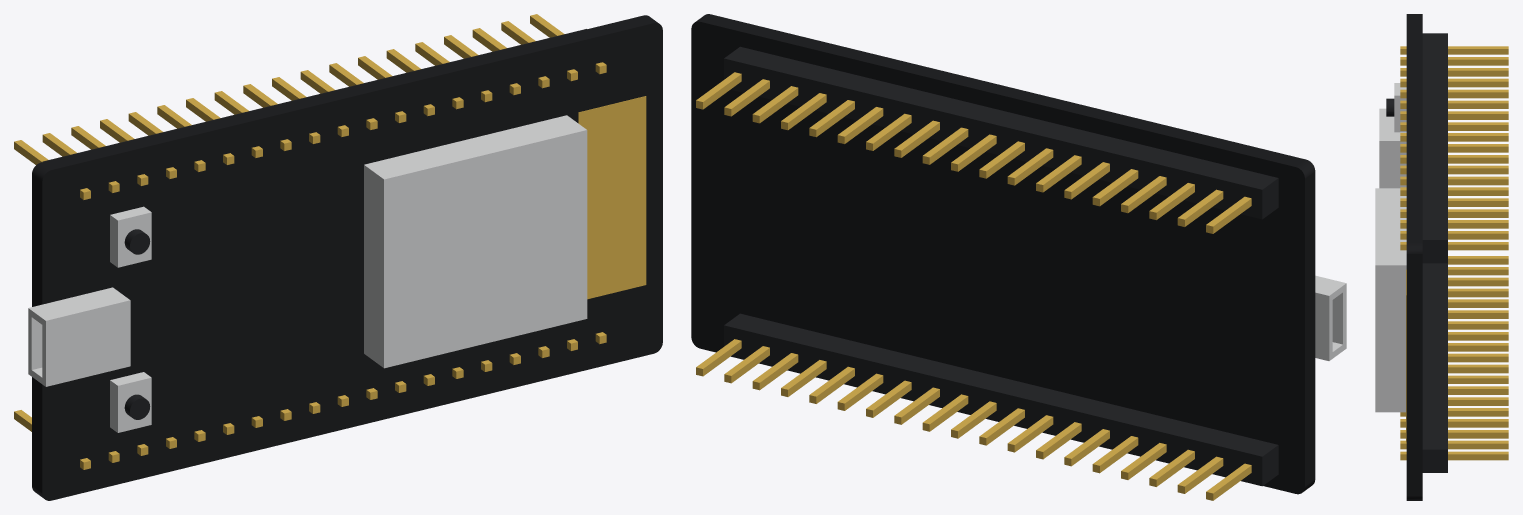
File: esp32-devkit.glb
The picture shows the model from 3 angles, left to right: view 1: azimuth 30°, elevation 25°; view 2: azimuth 150°, elevation 25°; view 3: azimuth 270°, elevation 25°; orthographic projection. The views are drawn at different scales.
Parts seen in each view (by area): view 1: board, esp32_module, antenna_trace_2, header_4_pins, usb, header_3_pins, button_7, button_6; view 2: board, header_4, header_3, header_3_pins, header_4_pins, usb; view 3: header_4_pins, header_3_pins, board, esp32_module, header_4, header_3, usb, button_7, antenna_trace_2, button_7_cap.
Part boxes in pixels (<box>): board: <box>32,15,662,500</box>; esp32_module: <box>364,115,587,368</box>; antenna_trace_2: <box>578,96,646,299</box>; header_4_pins: <box>14,14,606,199</box>; usb: <box>28,287,130,386</box>; header_3_pins: <box>14,332,606,469</box>; button_7: <box>110,206,151,267</box>; button_6: <box>110,372,151,432</box>; board: <box>691,14,1315,494</box>; header_4: <box>724,46,1278,219</box>; header_3: <box>724,313,1278,486</box>; header_3_pins: <box>696,339,1251,500</box>; header_4_pins: <box>696,72,1251,233</box>; usb: <box>1315,275,1346,360</box>; header_4_pins: <box>1400,46,1508,250</box>; header_3_pins: <box>1400,256,1508,460</box>; board: <box>1406,14,1422,500</box>; esp32_module: <box>1375,188,1406,412</box>; header_4: <box>1422,33,1447,263</box>; header_3: <box>1422,263,1447,472</box>; usb: <box>1379,108,1406,188</box>; button_7: <box>1394,83,1406,132</box>; antenna_trace_2: <box>1406,269,1406,442</box>; button_7_cap: <box>1386,98,1394,116</box>.
Bounding box in the file's own units: 56.25 × 28 × 13.2.
